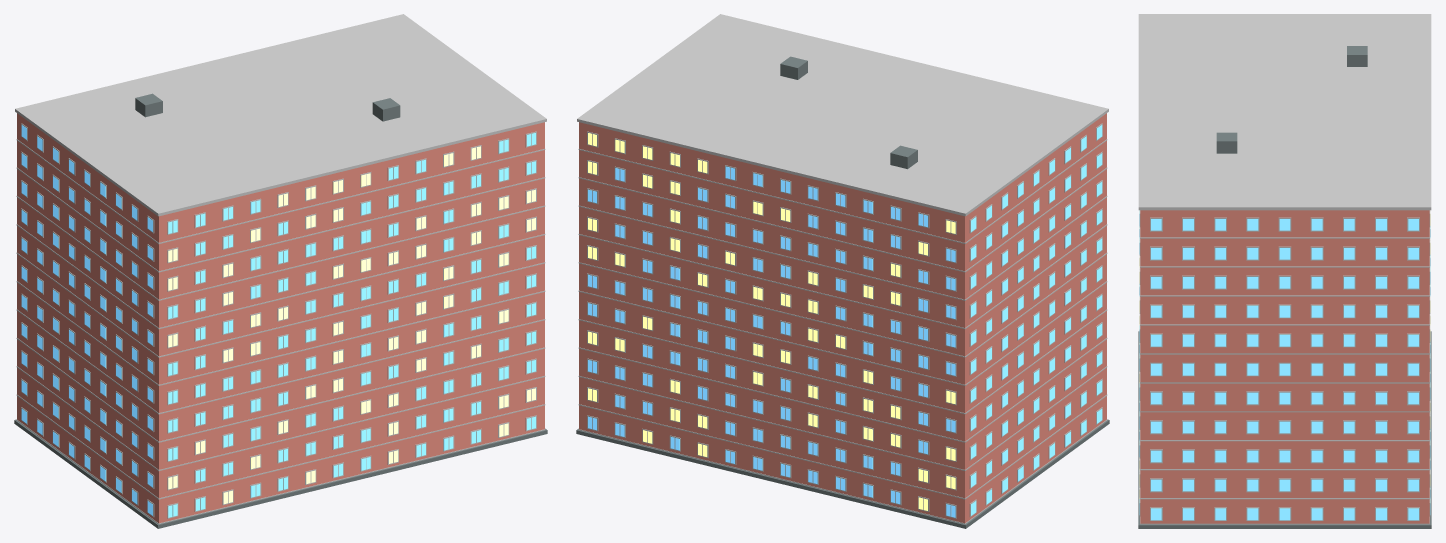
File: props.glb
3 renders of one model, left to right at view 1: azimuth 30°, elevation 25°; view 2: azimuth 150°, elevation 25°; view 3: azimuth 270°, elevation 25°, orthographic. The views are drawn at different scales.
Visible parts, largest first — view 1: school; view 2: school; view 3: school.
Part boxes in pixels (x1,y1,x2,y2): school: [14, 14, 547, 528]; school: [576, 14, 1109, 528]; school: [1138, 14, 1431, 528].
Size of the model in its own units: 44.4 by 35.69 by 28.4.
